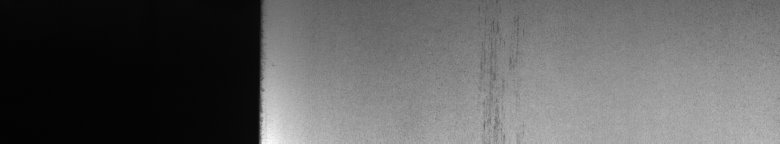ka: (478, 17, 524, 136)
